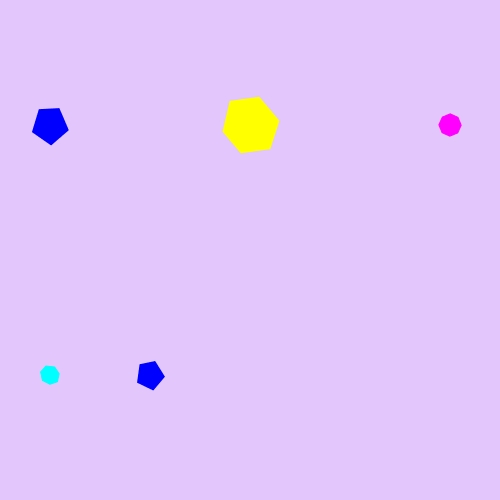heptagon: (36, 361, 65, 389)
hexagon: (216, 97, 285, 154)
octagon: (434, 109, 466, 141)
pentagon: (28, 103, 72, 147), (132, 357, 168, 393)
